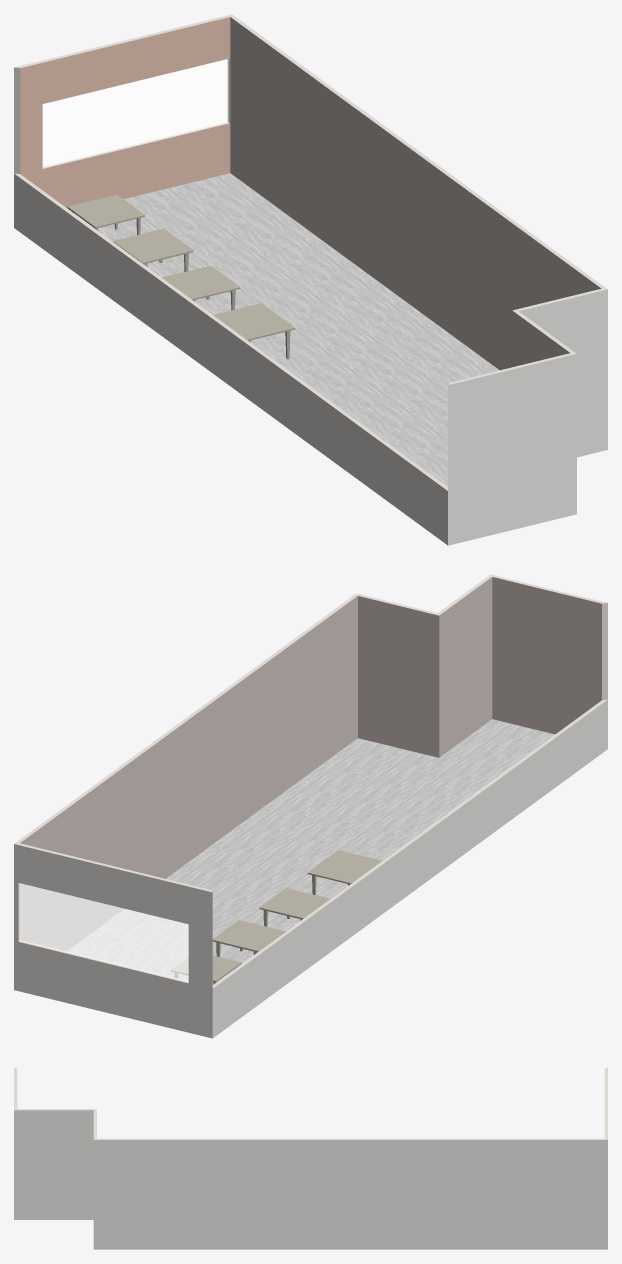
The model's file is TerraceEast.glb.
The picture shows the model from 3 angles, top to bottom: view 1: azimuth 30°, elevation 25°; view 2: azimuth 150°, elevation 25°; view 3: azimuth 270°, elevation 25°; orthographic projection. The views are drawn at different scales.
Visible parts, largest first — view 1: wall_14, floor_Other, wall_5, wall_0, wall_12, window_0, window_2, wall_1, wall_17, table_dining_rect0, table_dining_rect1, wall_15 (+5 smaller); view 2: wall_14, floor_Other, wall_5, wall_3, wall_6, wall_8, window_0, window_2, wall_10, wall_17, table_dining_rect0, wall_15 (+4 smaller); view 3: wall_4, wall_2, wall_15, wall_13.
Part boxes in pixels (<box>): wall_14: <box>230,17,600,370</box>; floor_Other: <box>77,173,499,486</box>; wall_5: <box>14,173,447,545</box>; wall_0: <box>448,354,576,545</box>; wall_12: <box>20,17,230,211</box>; window_0: <box>43,59,228,167</box>; window_2: <box>43,59,228,167</box>; wall_1: <box>519,289,607,457</box>; wall_17: <box>14,173,447,490</box>; table_dining_rect0: <box>213,303,295,359</box>; table_dining_rect1: <box>112,228,193,271</box>; wall_15: <box>230,14,607,289</box>; wall_14: <box>20,596,357,950</box>; floor_Other: <box>67,719,554,984</box>; wall_5: <box>212,700,607,1037</box>; wall_3: <box>14,844,212,1038</box>; wall_6: <box>492,577,601,734</box>; wall_8: <box>358,596,439,757</box>; window_0: <box>19,883,188,981</box>; window_2: <box>19,883,188,981</box>; wall_10: <box>439,577,492,757</box>; wall_17: <box>212,699,607,988</box>; table_dining_rect0: <box>307,850,381,894</box>; wall_15: <box>14,593,357,843</box>; wall_4: <box>93,1140,607,1249</box>; wall_2: <box>14,1110,93,1219</box>; wall_15: <box>94,1138,607,1139</box>; wall_13: <box>604,1067,607,1139</box>.
Size of the model in its own units: 5.36 by 3.77 by 18.49.
20 materials, 1 textured.
